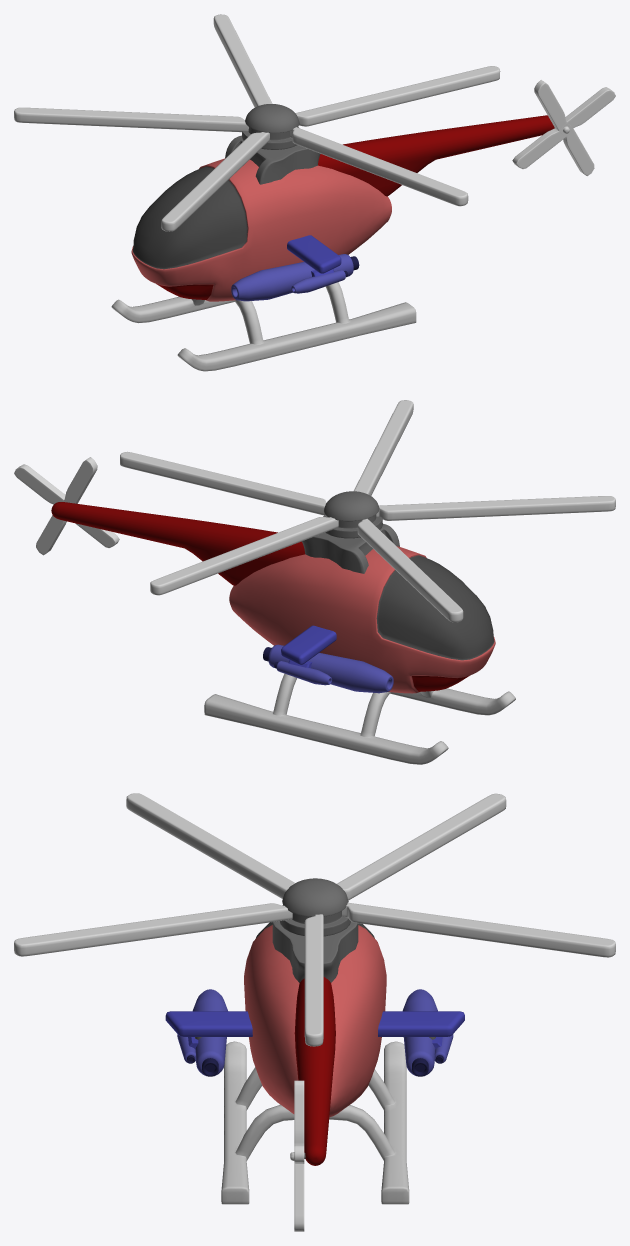
The model's file is Helicopter.fbx.
The picture shows the model from 3 angles, top to bottom: view 1: azimuth 30°, elevation 25°; view 2: azimuth 150°, elevation 25°; view 3: azimuth 270°, elevation 25°; orthographic projection. The views are drawn at different scales.
Visible parts, largest first — view 1: Body, topBlade, backBlade, gunL; view 2: Body, topBlade, gunR, backBlade; view 3: Body, topBlade, gunL, gunR, backBlade.
Part boxes in pixels (left/top/right/bottom): Body: left=111, top=104, right=554, bottom=371; topBlade: left=14, top=14, right=500, bottom=231; backBlade: left=512, top=80, right=615, bottom=175; gunL: left=231, top=254, right=359, bottom=301; Body: left=51, top=491, right=515, bottom=764; topBlade: left=120, top=400, right=615, bottom=622; gunR: left=263, top=644, right=393, bottom=693; backBlade: left=14, top=457, right=119, bottom=555; Body: left=165, top=878, right=464, bottom=1204; topBlade: left=14, top=793, right=615, bottom=1046; gunL: left=177, top=989, right=227, bottom=1076; gunR: left=402, top=989, right=453, bottom=1076; backBlade: left=290, top=1080, right=304, bottom=1231.
Size of the model in its own units: 8.39 by 3.29 by 6.95.
